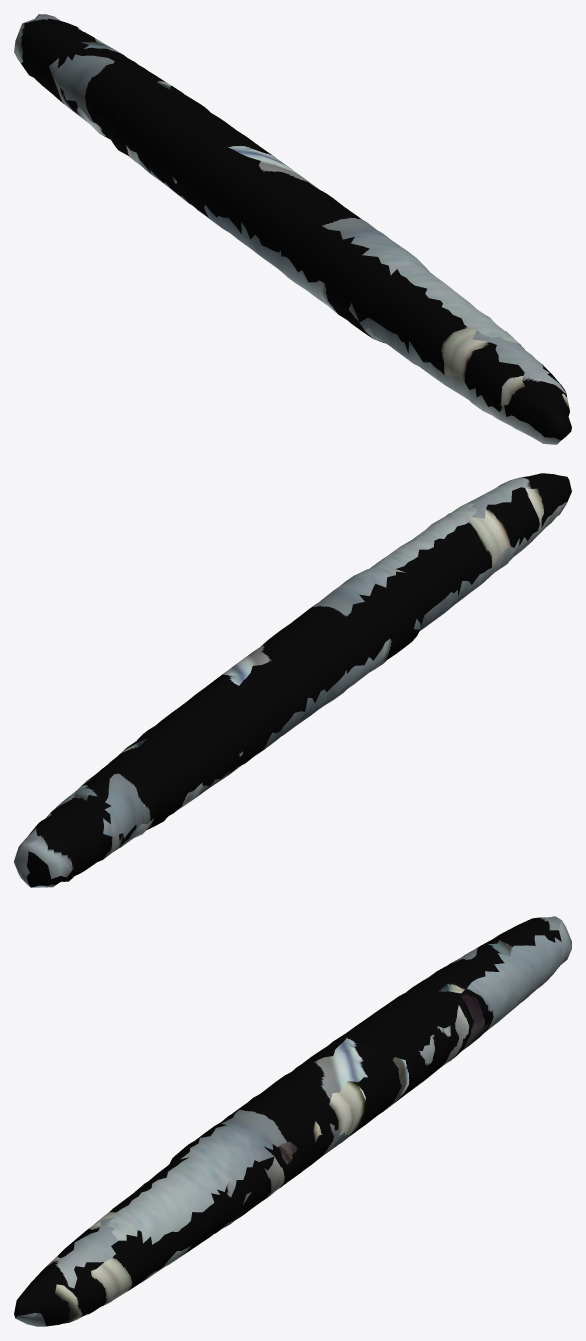
Rendered from scan_align.obj.
The picture shows the model from 3 angles, top to bottom: view 1: azimuth 30°, elevation 25°; view 2: azimuth 150°, elevation 25°; view 3: azimuth 330°, elevation 25°; orthographic projection. The views are drawn at different scales.
Bounding box in the file's own units: 0.00996 × 0.0101 × 0.1192.
